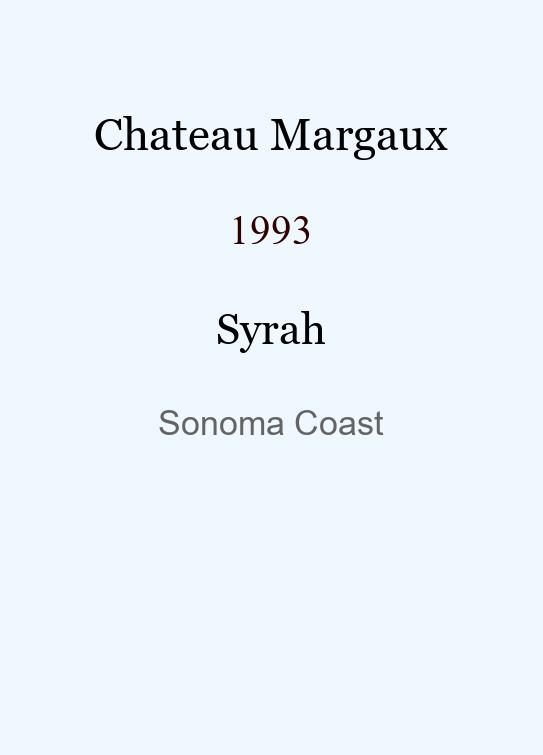brand: (94, 108, 448, 152)
region: (158, 404, 384, 429)
variety: (216, 304, 326, 346)
vintage: (229, 207, 313, 235)
